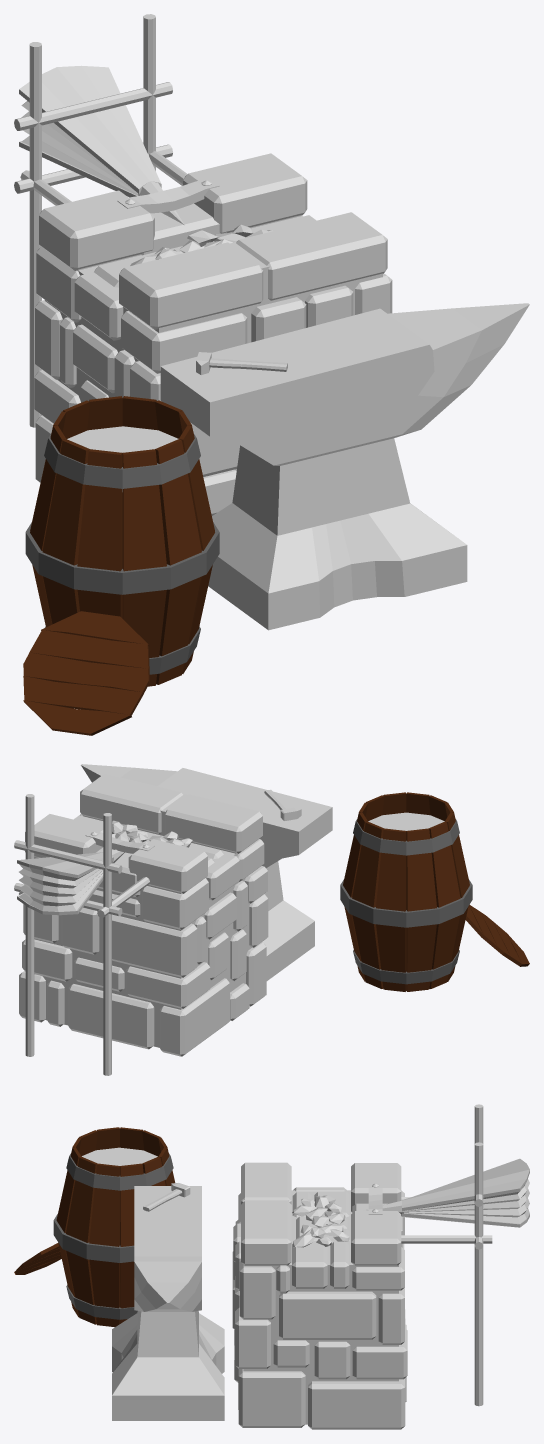
File: Forge.fbx
3 views of the same model, one above another, from view 1: azimuth 30°, elevation 25°; view 2: azimuth 150°, elevation 25°; view 3: azimuth 270°, elevation 25° (orthographic). The views are drawn at different scales.
Parts seen in each view (by area): view 1: Cube.001, Cube.023, Cube.006, Cube.002, Cylinder.005, Cylinder.001, Cylinder.006, Cube, Cube.012, Cube.013, Cube.014, Cube.004 (+8 smaller); view 2: Cube.023, Cube.006, Cube.001, Cube, Cube.004, Cylinder.005, Cylinder.001, Cylinder, Cylinder.006, Cylinder.007, Cube.002, Cylinder.008 (+7 smaller); view 3: Cube.023, Cube.001, Cube.006, Cube, Cube.002, Cylinder, Cube.004, Cylinder.006, Cylinder.005, Icosphere.001, Cylinder.008, Icosphere.006 (+5 smaller).
Boxes of the visible parts, box(x1,y1,x2,y2) form: Cube.001: box(160, 303, 529, 630); Cube.023: box(34, 153, 392, 515); Cube.006: box(30, 396, 214, 686); Cube.002: box(19, 65, 161, 193); Cylinder.005: box(25, 522, 219, 594); Cylinder.001: box(29, 42, 41, 427); Cylinder.006: box(44, 433, 200, 488); Cube: box(45, 215, 382, 470); Cube.012: box(23, 652, 149, 693); Cube.013: box(29, 630, 149, 670); Cube.014: box(23, 676, 143, 715); Cube.004: box(21, 101, 138, 195); Cube.023: box(19, 773, 268, 1056); Cube.006: box(343, 792, 469, 991); Cube.001: box(81, 764, 332, 980); Cube: box(34, 794, 257, 1047); Cube.004: box(19, 864, 103, 911); Cylinder.005: box(340, 879, 472, 927); Cylinder.001: box(103, 813, 111, 1075); Cylinder: box(25, 794, 34, 1056); Cylinder.006: box(353, 819, 459, 855); Cylinder.007: box(353, 950, 459, 984); Cube.002: box(17, 852, 113, 878); Cylinder.008: box(368, 812, 444, 830); Cube.023: box(232, 1162, 407, 1429); Cube.001: box(112, 1186, 224, 1420); Cube.006: box(56, 1127, 175, 1327); Cube: box(243, 1190, 398, 1424); Cube.002: box(402, 1158, 529, 1211); Cylinder: box(474, 1142, 483, 1406); Cube.004: box(403, 1179, 529, 1223); Cylinder.006: box(66, 1153, 173, 1190); Cylinder.005: box(53, 1214, 134, 1262); Icosphere.001: box(293, 1212, 349, 1247); Cylinder.008: box(82, 1147, 157, 1165); Icosphere.006: box(292, 1195, 341, 1227).
Bounding box in the file's own units: 514 × 330 × 583.
